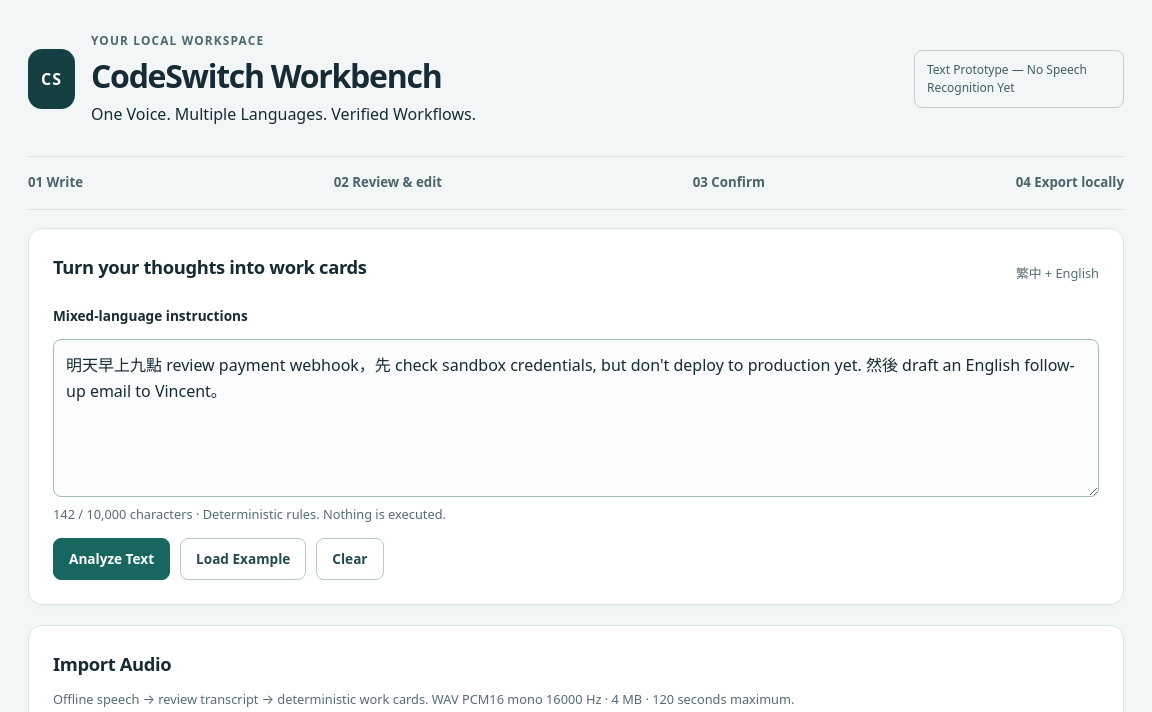
Test: confirms only the selected card and enables export
Step 1. Click the button "Analyze Text" → (112,559), box [53,538,170,580]
(page scrolled)
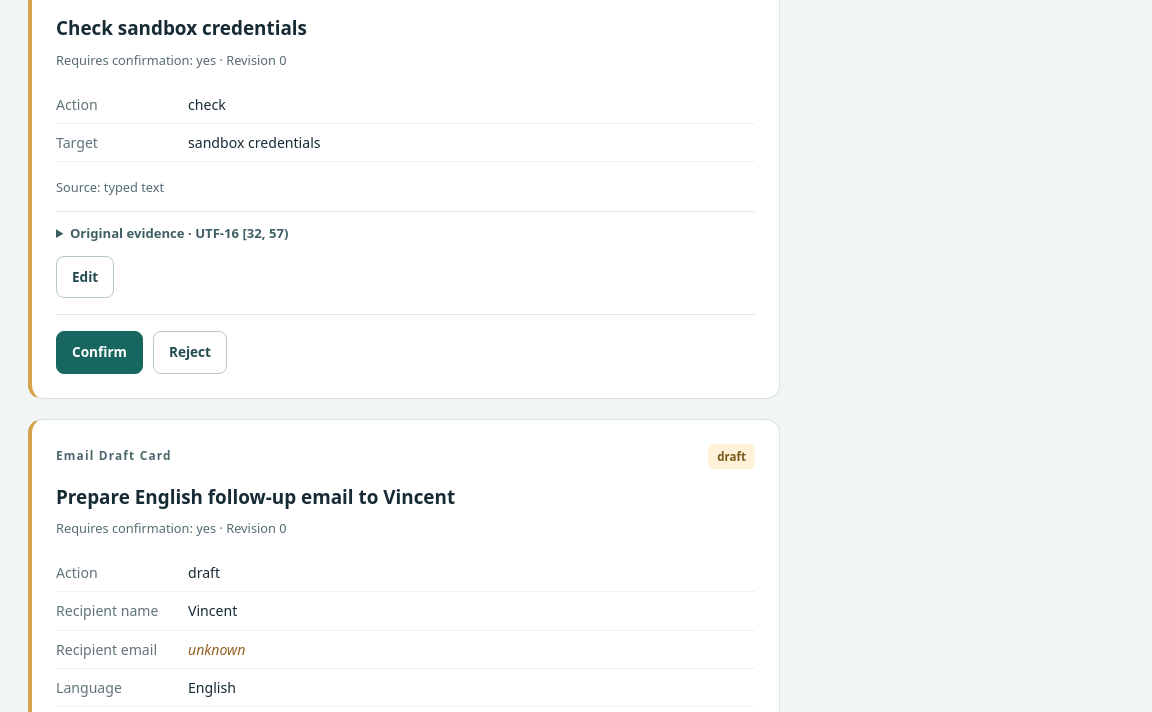
Step 2. Click the button "Confirm" → (99,352), box [56,331,143,374]
(page scrolled)
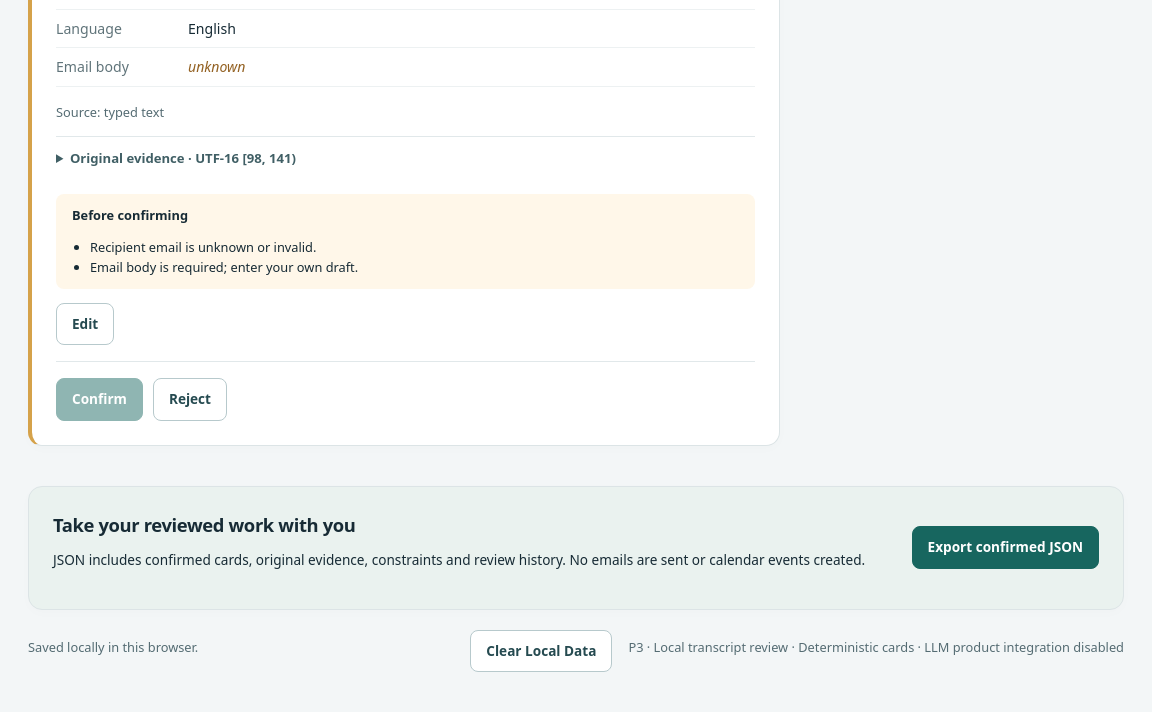
Check: the button "Export confirmed JSON" is enabled, box [912,526,1099,569]
